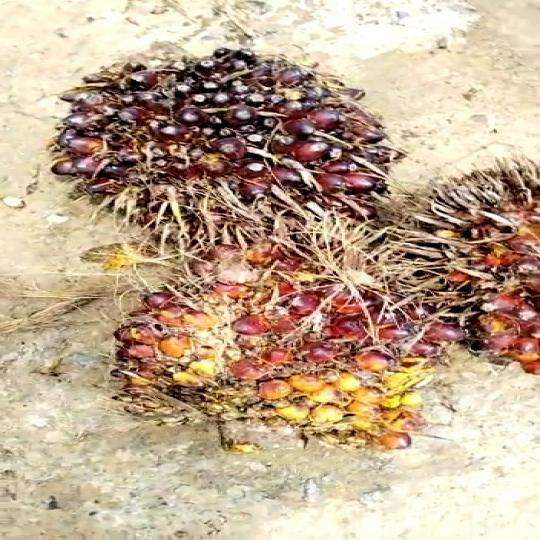masak: (38, 43, 406, 259), (102, 239, 446, 449)
